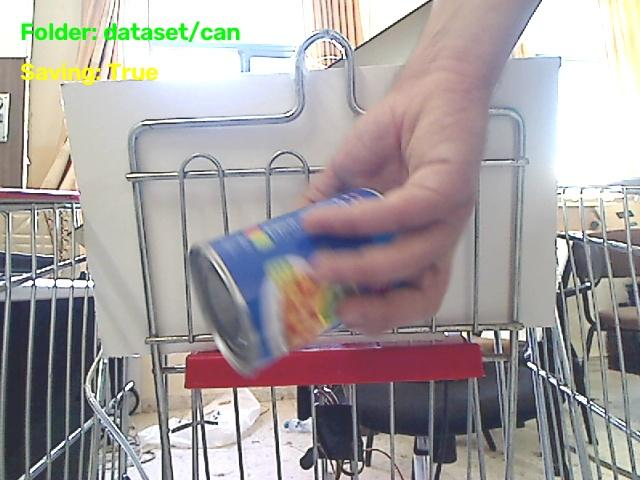can: (190, 189, 389, 374)
